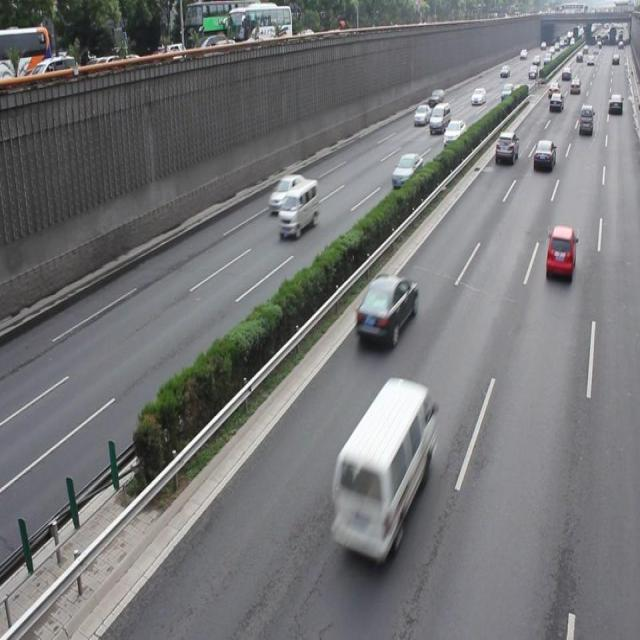car: (353, 273, 418, 346), (544, 224, 575, 277), (268, 172, 306, 210), (391, 151, 422, 188), (532, 138, 554, 170)
truck: (328, 377, 434, 564), (278, 178, 318, 236)
